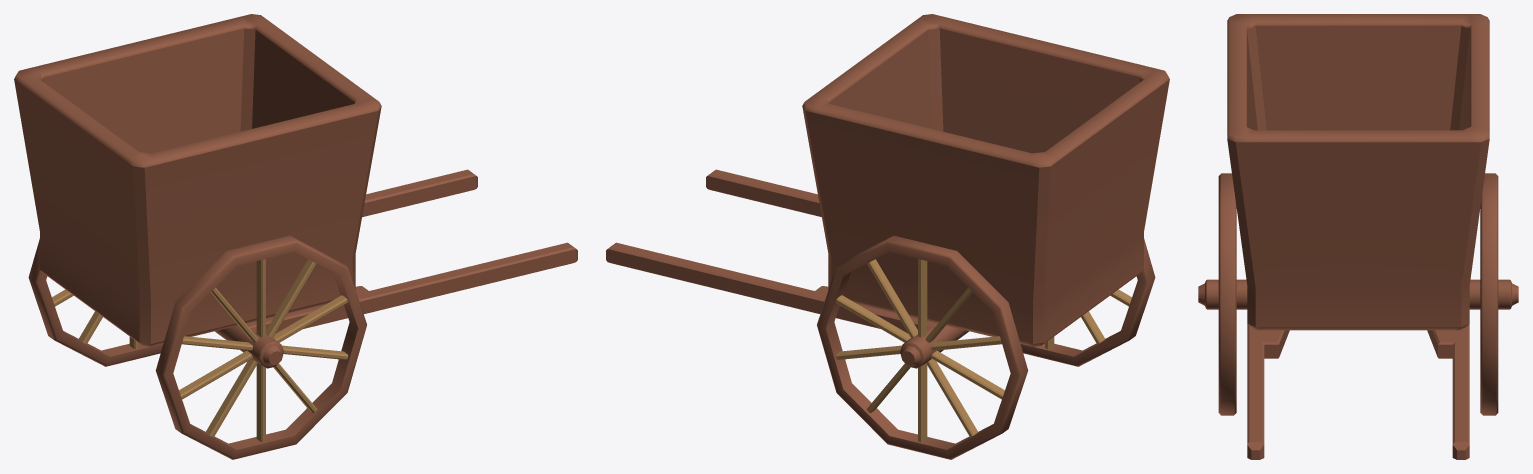
File: Cart_01.fbx
3 renders of one model, left to right at view 1: azimuth 30°, elevation 25°; view 2: azimuth 150°, elevation 25°; view 3: azimuth 270°, elevation 25°, orthographic. The views are drawn at different scales.
Visible parts, largest first — view 1: polySurface12; view 2: polySurface12; view 3: polySurface12.
Part boxes in pixels (x1,y1,x2,y2): polySurface12: (14, 14, 577, 459); polySurface12: (606, 14, 1169, 459); polySurface12: (1198, 14, 1518, 459).
Bounding box in the file's own units: 99.3 × 66.14 × 59.18.
